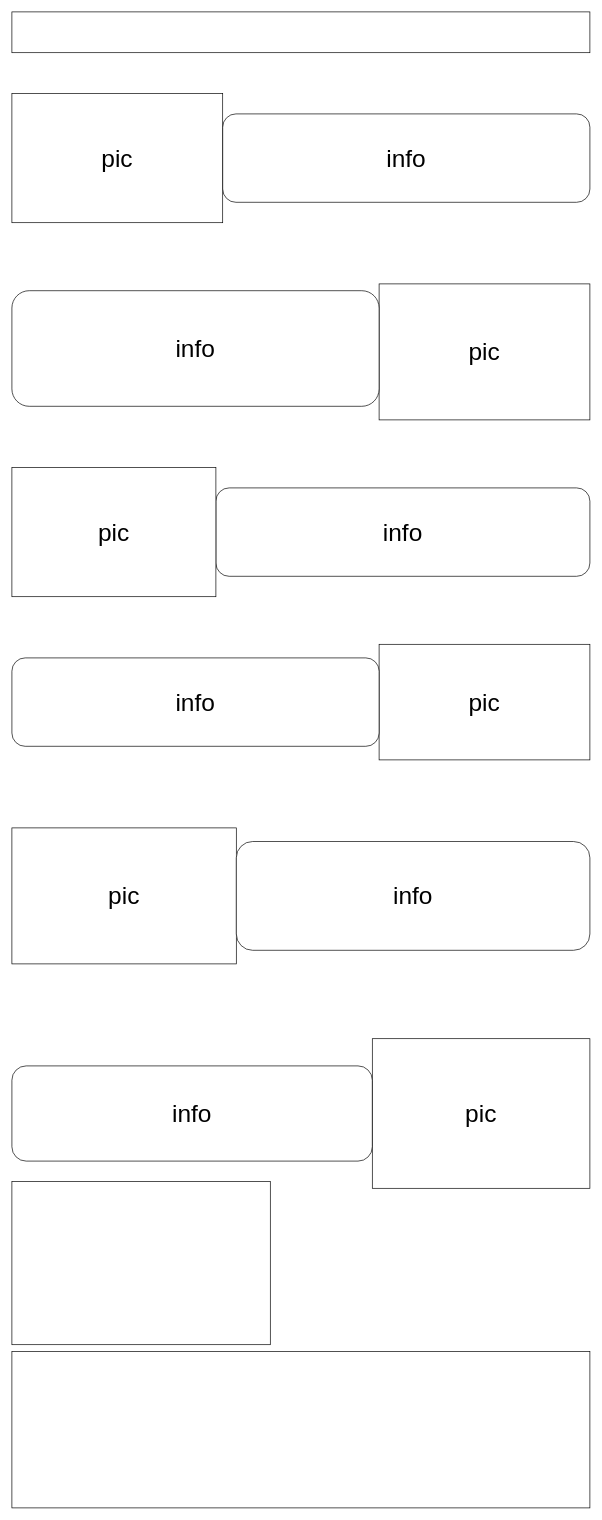
Image size: 602x1520. Some labels were removed from this diagram. Each missing label, with the centre of its shape:
"customer info input" belongs at [140,1263].
"footer" belongs at [300,1429].
"navbar" belongs at [300,32].
